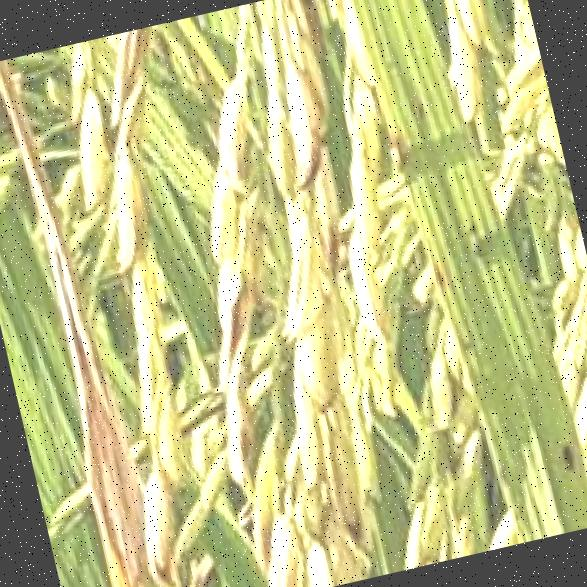Bacteria_Leaf_Blight: (0, 51, 171, 587)
